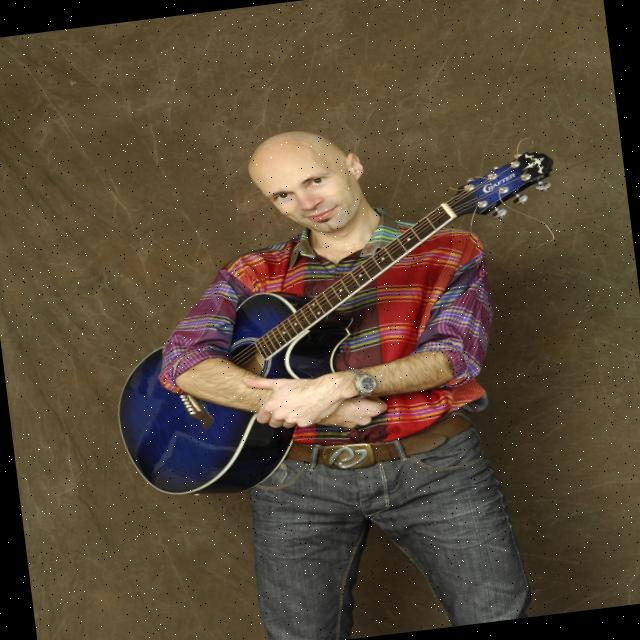guitar: (85, 146, 594, 512)
